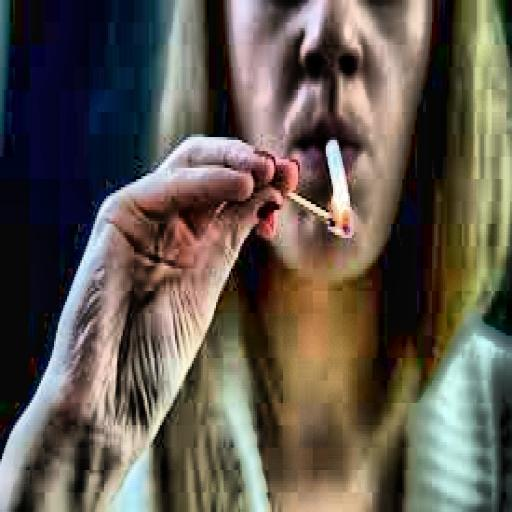fire: (316, 193, 356, 246)
